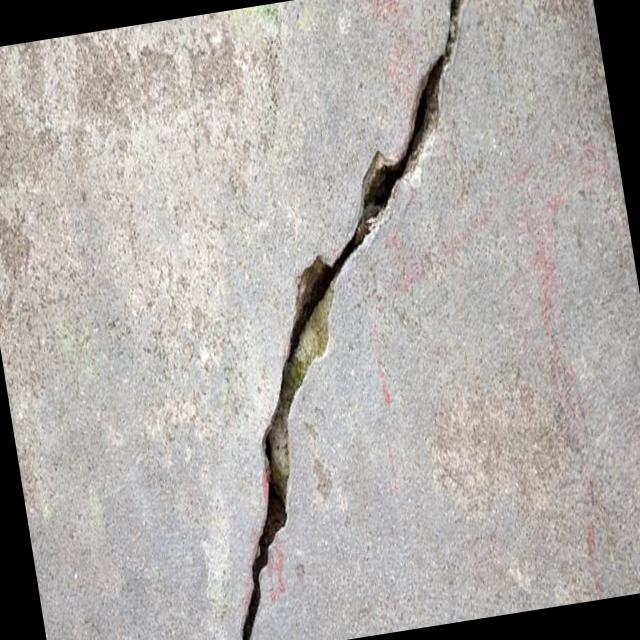crack: (140, 0, 568, 640)
